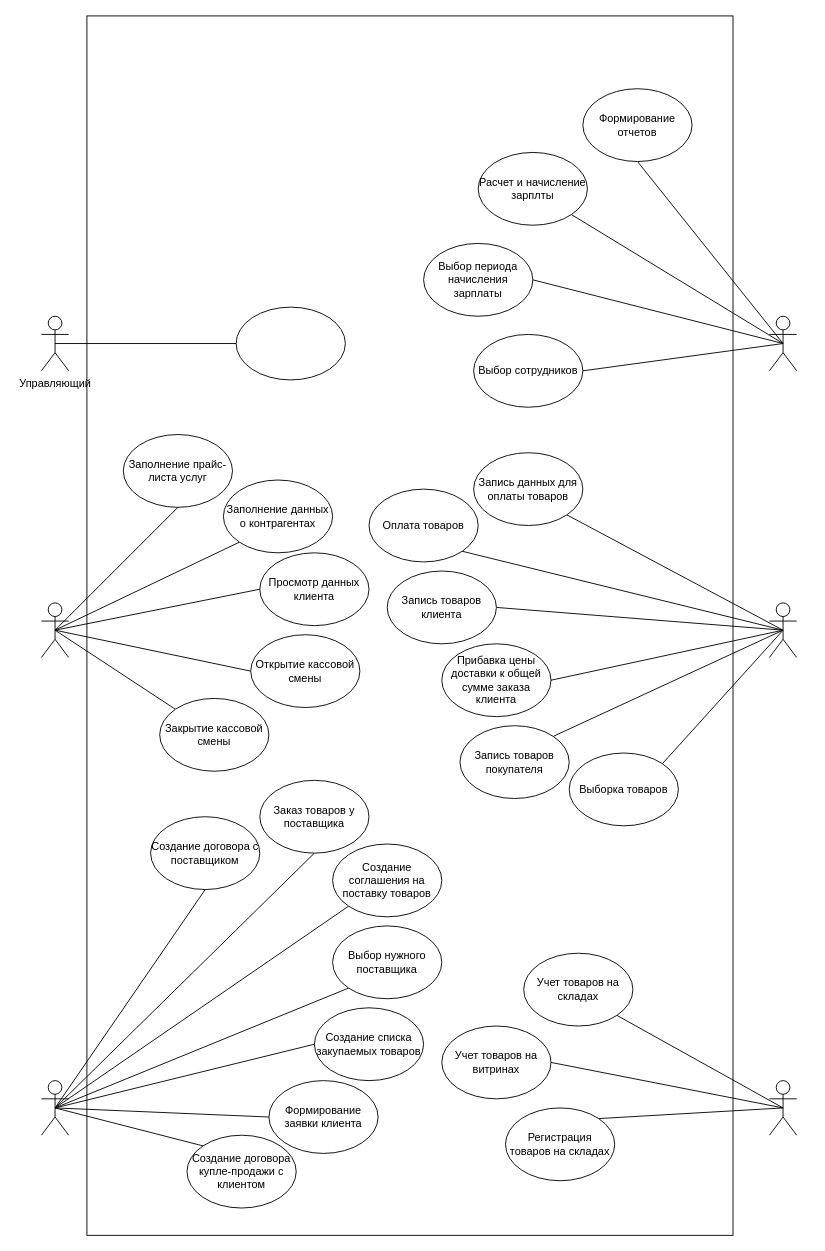
This 825x1251 diagram has some shape labels left out. Here are the shapes that lost their labels. From the top down, the centre of each, then its label:
At pixel 290 343: "Просмотр отчетов".
At pixel 782 343: "Бухгалтер".
At pixel 54 629: "Администратор".
At pixel 782 629: "Кассир".
At pixel 54 1107: "Менеджер".
At pixel 782 1107: "Товаровед".
